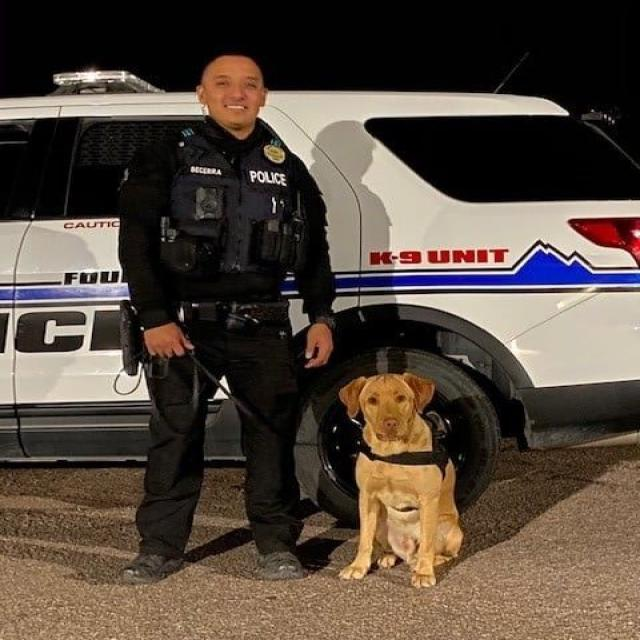police: (125, 40, 335, 611)
